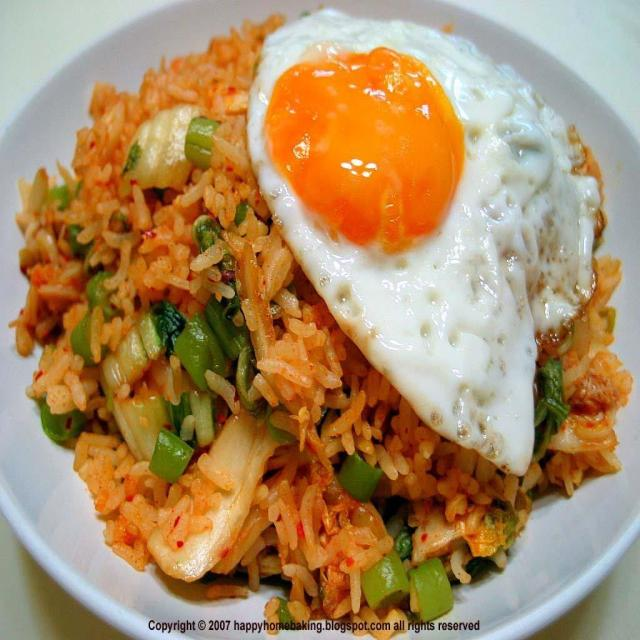Nasi Goreng: (1, 60, 637, 587)
